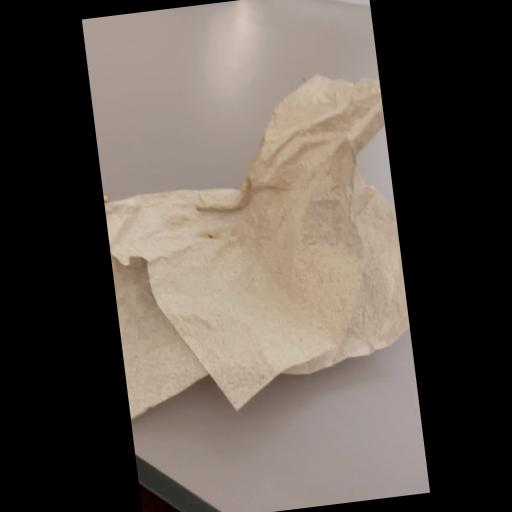napkin: (92, 61, 418, 425)
